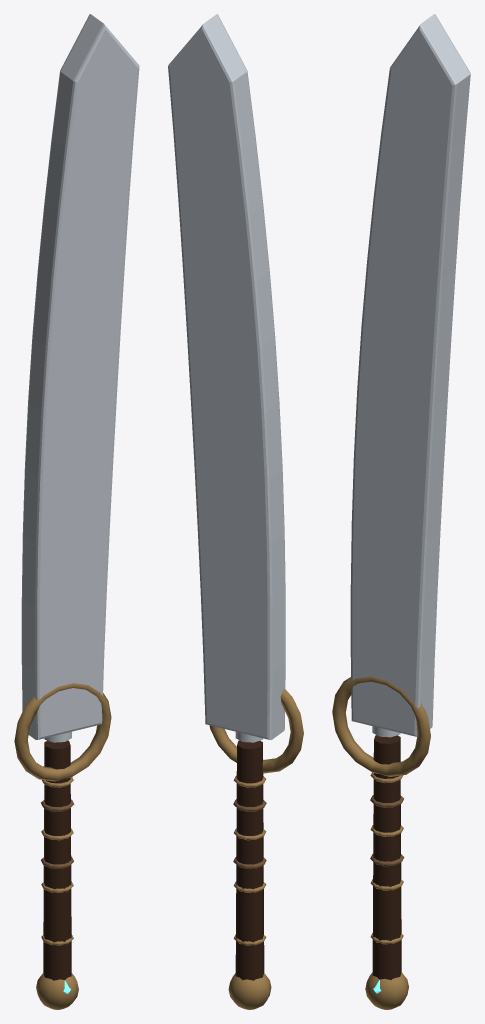
Rendered from greatsword_f4_8379484.glb.
The picture shows the model from 3 angles, left to right: view 1: azimuth 30°, elevation 25°; view 2: azimuth 150°, elevation 25°; view 3: azimuth 330°, elevation 25°; orthographic projection.
Visible parts, largest first — view 1: m3_ow80_, m1_ow80_, m4_ow80_, m5_ow80_; view 2: m3_ow80_, m1_ow80_, m4_ow80_, m5_ow80_; view 3: m3_ow80_, m1_ow80_, m4_ow80_, m5_ow80_.
Part boxes in pixels (x1,y1,x2,y2): m3_ow80_: (21, 14, 139, 742); m1_ow80_: (43, 740, 71, 980); m4_ow80_: (14, 683, 111, 1009); m5_ow80_: (41, 799, 74, 868); m3_ow80_: (168, 14, 285, 742); m1_ow80_: (235, 740, 264, 980); m4_ow80_: (209, 688, 303, 1009); m5_ow80_: (233, 799, 266, 868); m3_ow80_: (350, 14, 470, 737); m1_ow80_: (372, 735, 401, 979); m4_ow80_: (332, 676, 430, 1009); m5_ow80_: (370, 795, 404, 866).
Size of the model in its own units: 0.4973 by 3.76 by 0.1555.
